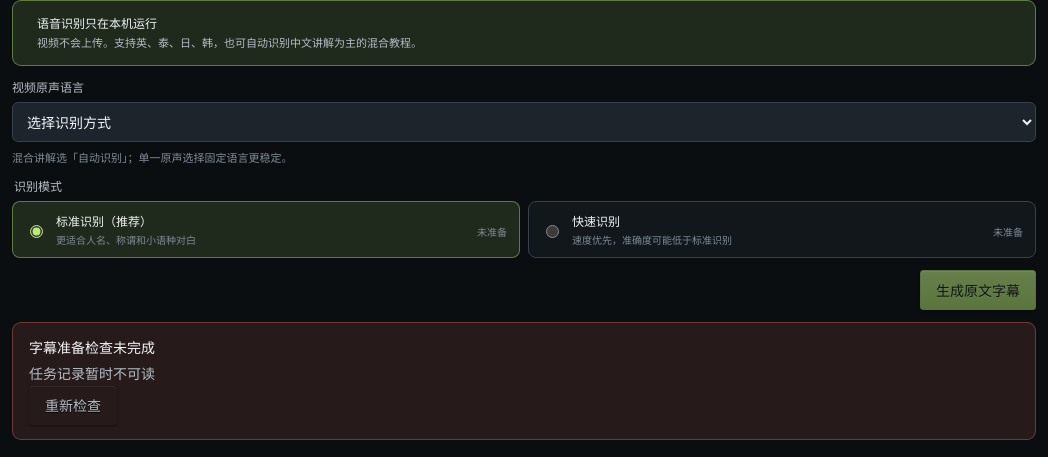
Test case: blocks duplicate generation until task history can be read again
The width and height of the screenshot is (1048, 457).
Expected: the text "任务记录暂时不可读" is shown, [29, 365, 155, 382]
Select "日语" in the dropdown labelled "视频原声语言 混合讲解选「自动识别」；单一原声选择固定语言更稳定。". click: (524, 122)
box: [12, 102, 1036, 142]
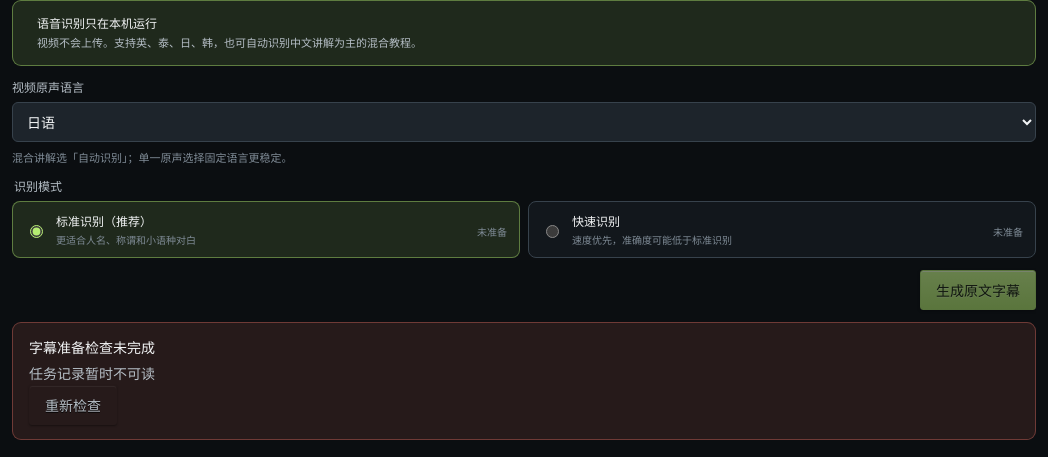
Expected: the button "生成原文字幕" is disabled, [920, 270, 1036, 310]
Click the button "重新检查". click: (73, 405)
box: [29, 385, 117, 425]
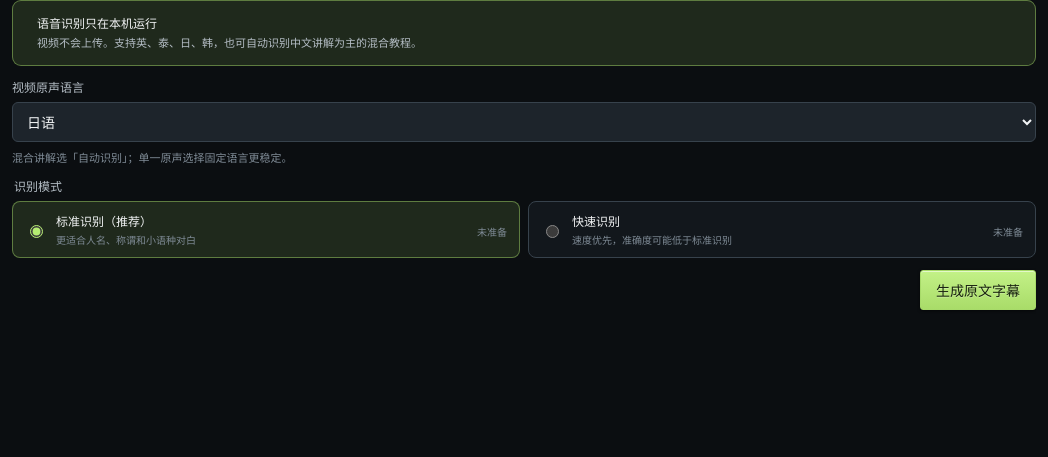
Result: the button "生成原文字幕" is enabled at [920, 270, 1036, 310]
Result: the text "任务记录暂时不可读" is gone
